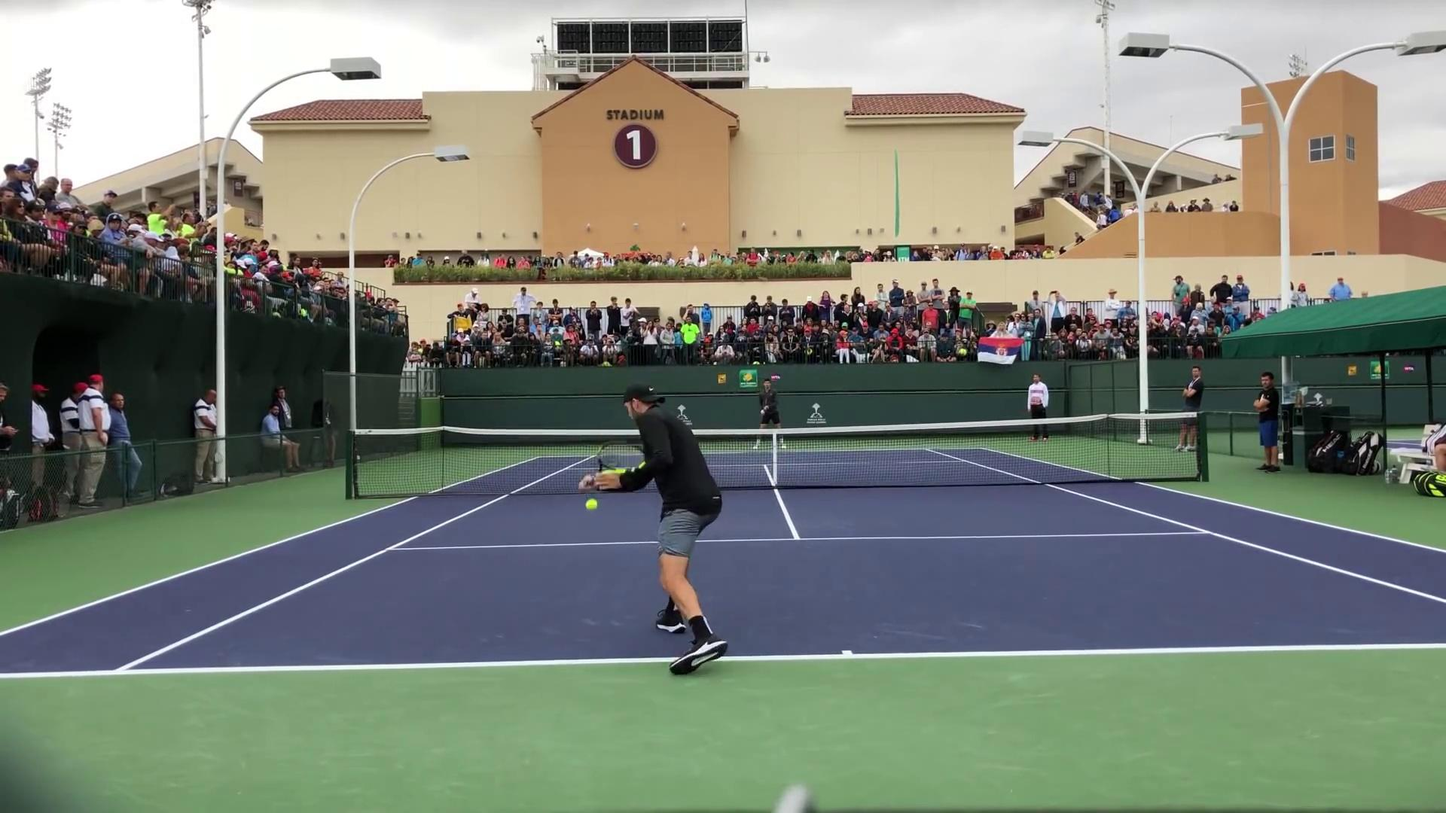ball: (585, 499, 599, 513)
